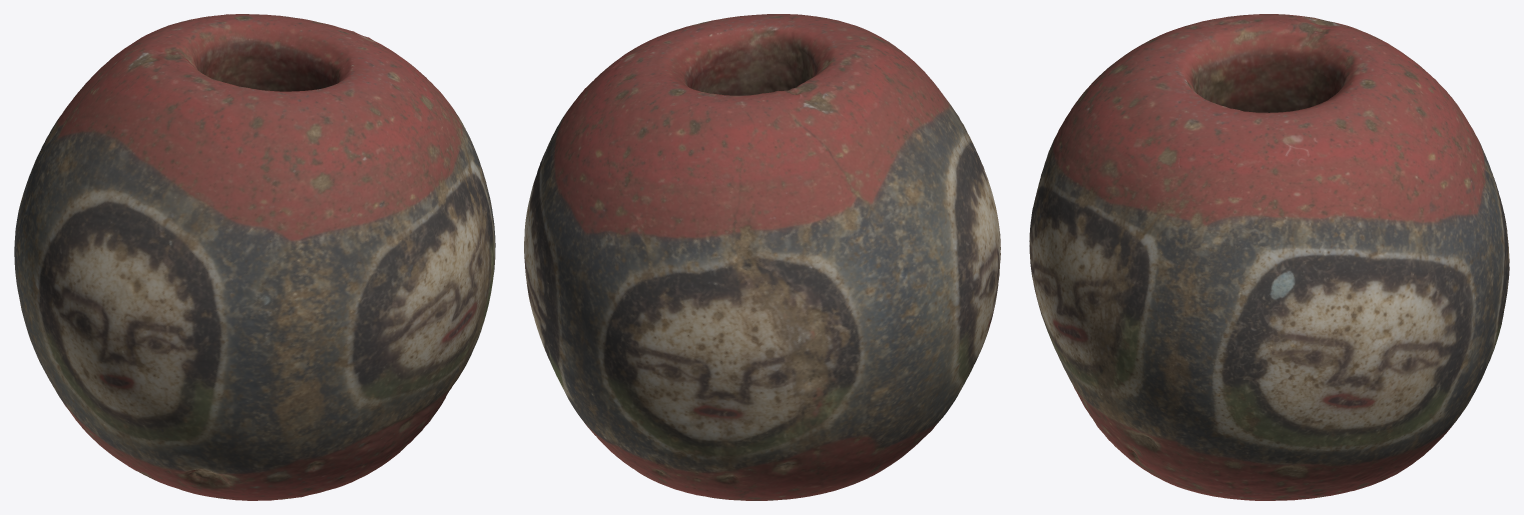
The model's file is archaeological-glass-bead-real-scan.glb.
3 views of the same model, side by side, from view 1: azimuth 30°, elevation 25°; view 2: azimuth 150°, elevation 25°; view 3: azimuth 270°, elevation 25° (orthographic).
Parts seen in each view (by area): view 1: Object_4, Object_3; view 2: Object_4, Object_3; view 3: Object_4, Object_3.
Part boxes in pixels (bbox=[...]): Object_4: bbox=[14, 14, 495, 500]; Object_3: bbox=[201, 56, 333, 91]; Object_4: bbox=[524, 14, 1000, 500]; Object_3: bbox=[689, 59, 813, 95]; Object_4: bbox=[1029, 14, 1509, 500]; Object_3: bbox=[1198, 64, 1339, 112].
Bounding box in the file's own units: 20.7 × 18.92 × 20.63.
Materials: 1 (1 with a texture image).
